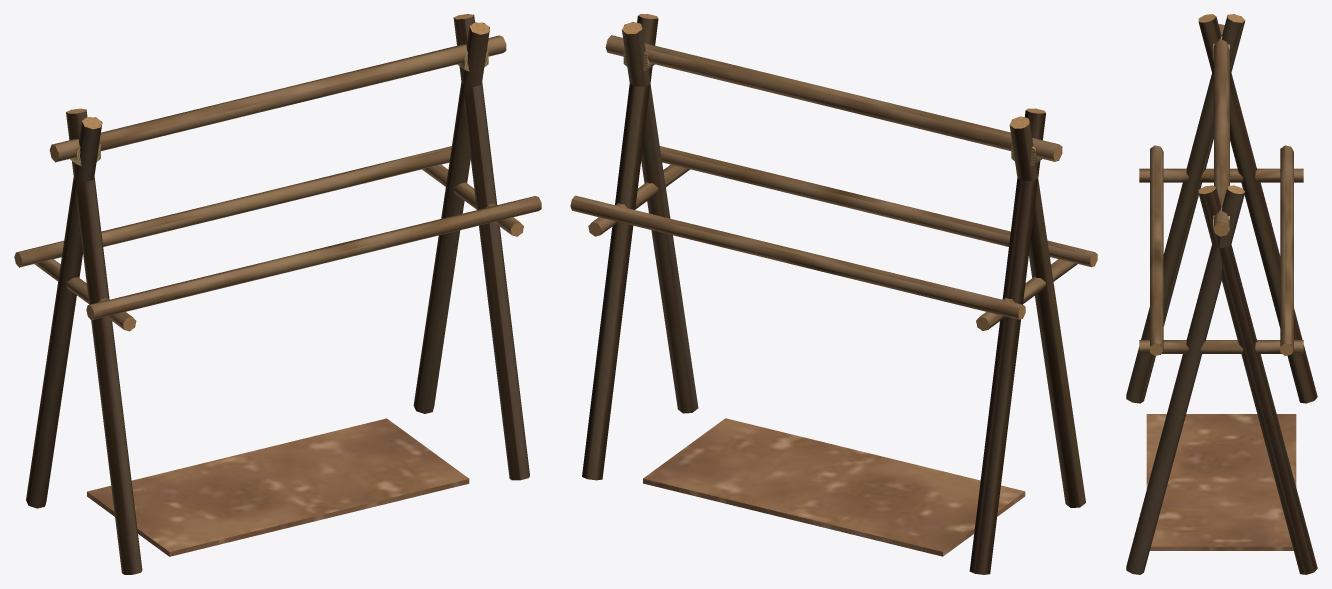
The model's file is drying_rack.glb.
The picture shows the model from 3 angles, left to right: view 1: azimuth 30°, elevation 25°; view 2: azimuth 150°, elevation 25°; view 3: azimuth 270°, elevation 25°; orthographic projection. The views are drawn at different scales.
Visible parts, largest first — view 1: drying_rack; view 2: drying_rack; view 3: drying_rack.
Boxes of the visible parts, left/top/right/bottom form: drying_rack: left=14, top=14, right=541, bottom=574; drying_rack: left=570, top=14, right=1097, bottom=574; drying_rack: left=1126, top=14, right=1317, bottom=574.
Size of the model in its own units: 1.94 by 1.76 by 0.7939.
Materials: 1 (1 with a texture image).
